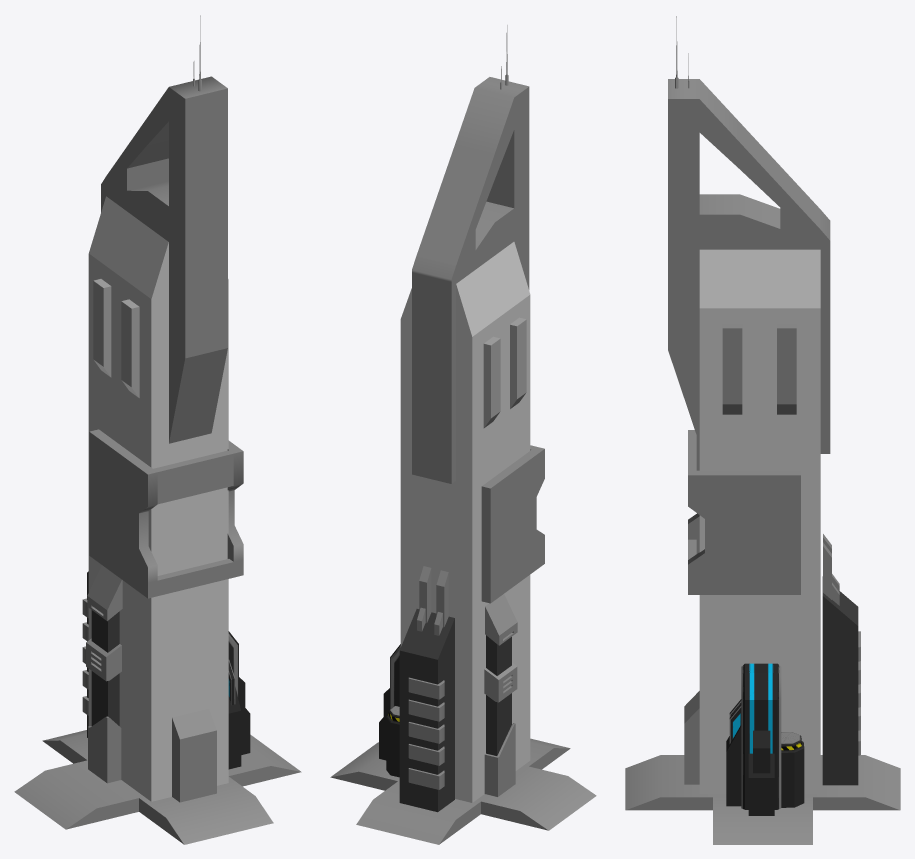
The model's file is building5.fbx.
The picture shows the model from 3 angles, left to right: view 1: azimuth 30°, elevation 25°; view 2: azimuth 150°, elevation 25°; view 3: azimuth 270°, elevation 25°; orthographic projection. The views are drawn at different scales.
Visible parts, largest first — view 1: building_5; view 2: building_5; view 3: building_5.
Boxes of the visible parts, x1,y1,x2,y2 form: building_5: (14, 15, 301, 844); building_5: (330, 25, 596, 844); building_5: (625, 16, 900, 844).
Size of the model in its own units: 22.18 by 71.96 by 23.17.
